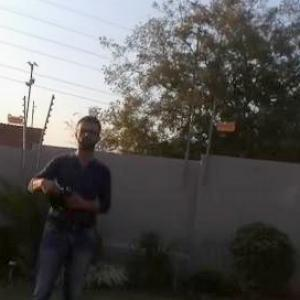follow: (23, 108, 119, 299)
